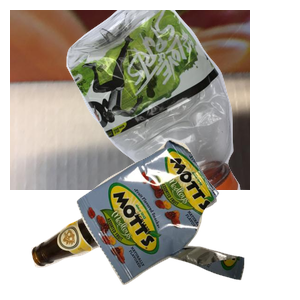cardboard: (10, 10, 250, 190)
glass: (29, 150, 238, 300)
plastic: (64, 10, 300, 190)
trash: (74, 137, 300, 300)
